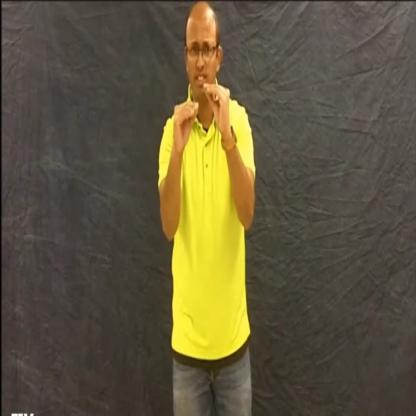Fix: (169, 63, 233, 165)
